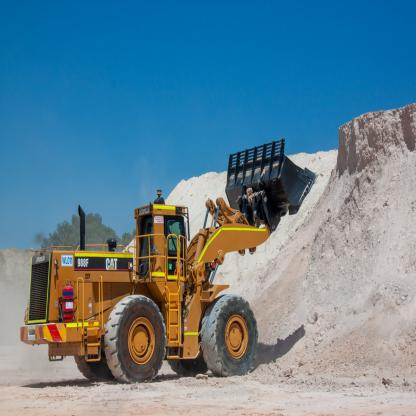bull_dozer/loader/grader: (21, 121, 316, 391)
